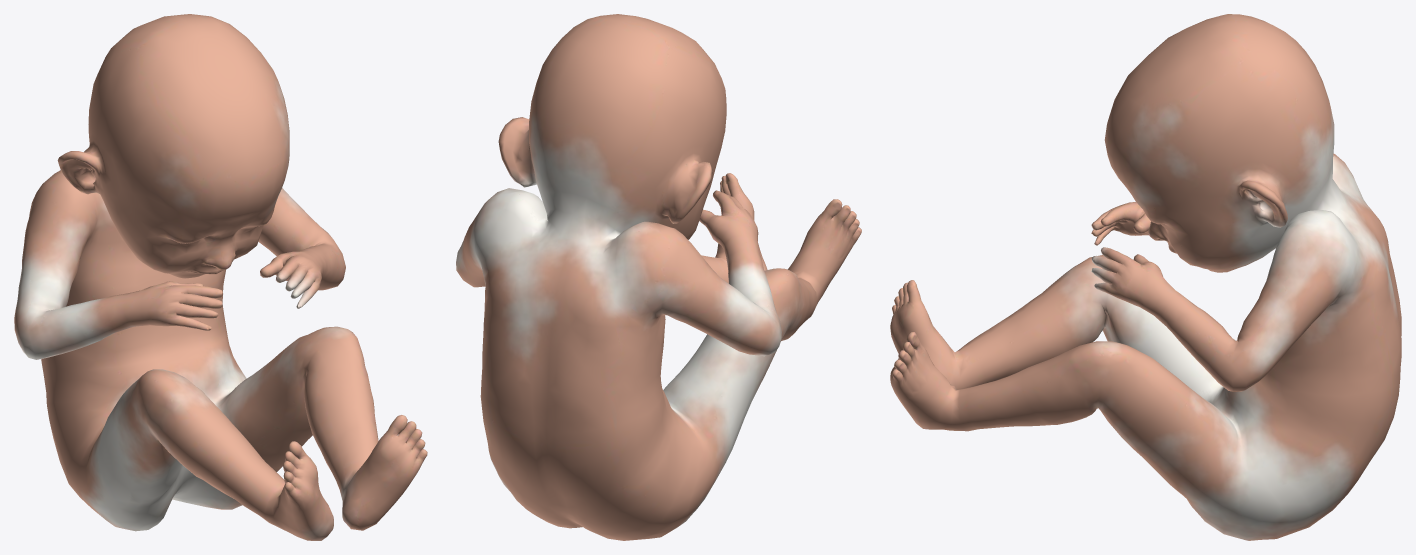
The picture shows the model from 3 angles, left to right: view 1: azimuth 30°, elevation 25°; view 2: azimuth 150°, elevation 25°; view 3: azimuth 270°, elevation 25°; orthographic projection.
Visible parts, largest first — view 1: Baby; view 2: Baby; view 3: Baby.
Boxes of the visible parts, x1=… form: Baby: x1=14, y1=14, x2=427, y2=540; Baby: x1=456, y1=14, x2=861, y2=540; Baby: x1=890, y1=14, x2=1401, y2=540.
Bounding box in the file's own units: 0.2402 × 0.3576 × 0.3355.
Materials: 1 (1 with a texture image).
